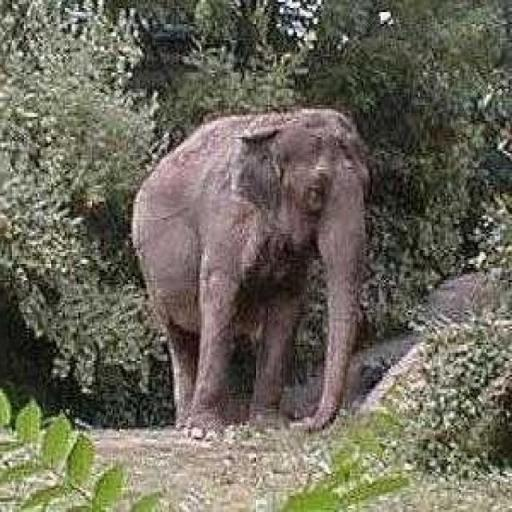Elephant: (130, 104, 378, 438)
